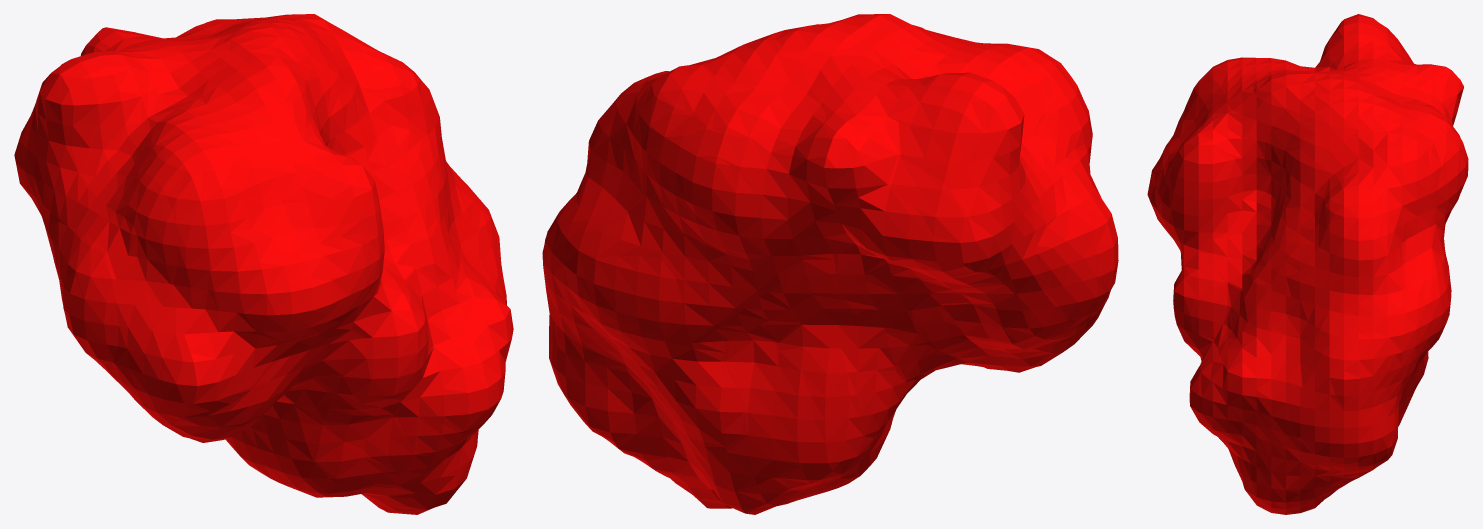
File: lpxT_coarse.dae
3 renders of one model, left to right at view 1: azimuth 30°, elevation 25°; view 2: azimuth 150°, elevation 25°; view 3: azimuth 270°, elevation 25°, orthographic. The views are drawn at different scales.
Parts seen in each view (by area): view 1: lpxT; view 2: lpxT; view 3: lpxT.
Boxes of the visible parts, bbox=[...] form: lpxT: bbox=[14, 14, 513, 514]; lpxT: bbox=[542, 14, 1118, 514]; lpxT: bbox=[1147, 14, 1468, 514].
Bounding box in the file's own units: 54.8 × 54.18 × 40.55.
